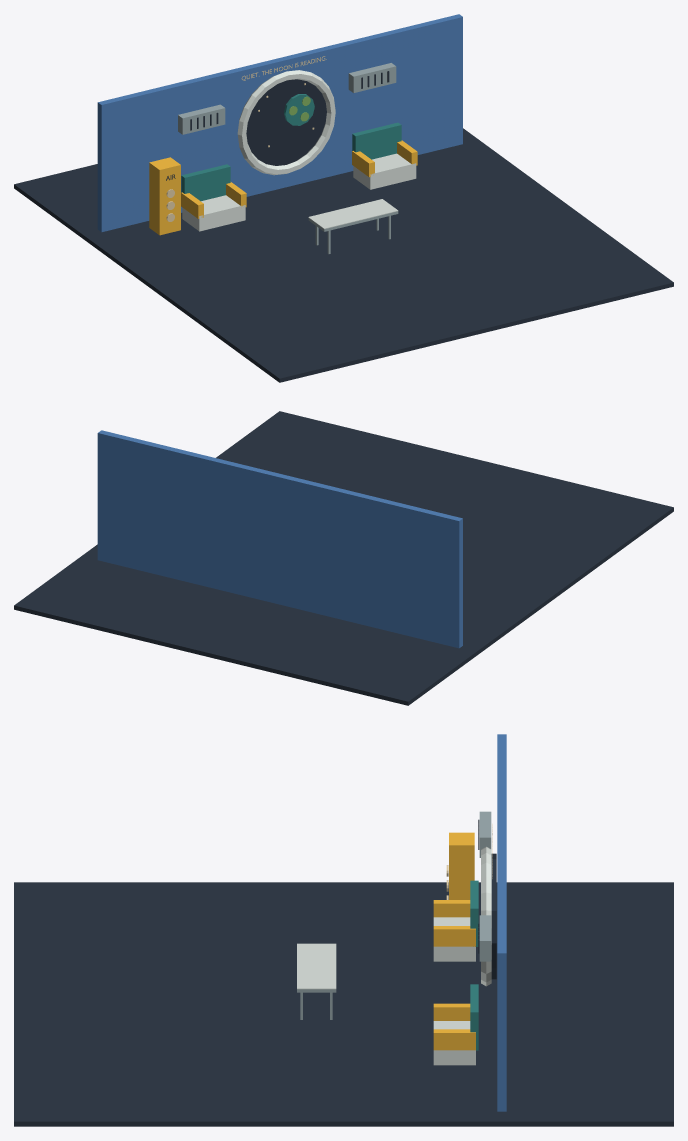
Rendered from theatre-moon-base.glb.
3 renders of one model, top to bottom at view 1: azimuth 30°, elevation 25°; view 2: azimuth 150°, elevation 25°; view 3: azimuth 270°, elevation 25°, orthographic. The views are drawn at different scales.
Parts seen in each view (by area): view 1: Floor, BG_Bulkhead, BG_SpaceWindow, BG_Porthole, BG_OxygenCabinet, BG_LoungeBase, BG_LoungeBase.001, BG_LoungeBack, BG_LoungeBack.001, Table_top, BG_AirDuct.001, BG_AirDuct (+1 smaller); view 2: Floor, BG_Bulkhead; view 3: Floor, BG_Bulkhead, Table_top, BG_OxygenCabinet, BG_Porthole, BG_LoungeBase, BG_LoungeBase.001, BG_LoungeArm.003, BG_LoungeArm.001, BG_SpaceWindow, BG_LoungeArm, BG_LoungeArm.002 (+1 smaller).
Part boxes in pixels (x1=…): Floor: x1=14, y1=128, x2=673, y2=382; BG_Bulkhead: x1=97, y1=14, x2=462, y2=232; BG_SpaceWindow: x1=246, y1=79, x2=326, y2=165; BG_Porthole: x1=237, y1=70, x2=335, y2=175; BG_OxygenCabinet: x1=149, y1=157, x2=180, y2=235; BG_LoungeBase: x1=182, y1=195, x2=245, y2=231; BG_LoungeBase.001: x1=353, y1=153, x2=416, y2=189; BG_LoungeBack: x1=181, y1=164, x2=230, y2=201; BG_LoungeBack.001: x1=352, y1=122, x2=401, y2=159; Table_top: x1=308, y1=199, x2=398, y2=229; BG_AirDuct.001: x1=348, y1=63, x2=396, y2=92; BG_AirDuct: x1=178, y1=104, x2=225, y2=134; Floor: x1=14, y1=411, x2=673, y2=705; BG_Bulkhead: x1=97, y1=430, x2=462, y2=648; Floor: x1=14, y1=882, x2=673, y2=1126; BG_Bulkhead: x1=497, y1=734, x2=506, y2=1111; Table_top: x1=297, y1=943, x2=336, y2=989; BG_OxygenCabinet: x1=449, y1=832, x2=474, y2=899; BG_Porthole: x1=481, y1=846, x2=491, y2=986; BG_LoungeBase: x1=433, y1=917, x2=475, y2=961; BG_LoungeBase.001: x1=433, y1=1021, x2=475, y2=1065; BG_LoungeArm.003: x1=433, y1=1029, x2=475, y2=1050; BG_LoungeArm.001: x1=433, y1=926, x2=475, y2=946; BG_SpaceWindow: x1=491, y1=853, x2=496, y2=979; BG_LoungeArm: x1=433, y1=900, x2=470, y2=917; BG_LoungeArm.002: x1=433, y1=1003, x2=470, y2=1020.
Size of the model in its own units: 12 by 3.82 by 14.
